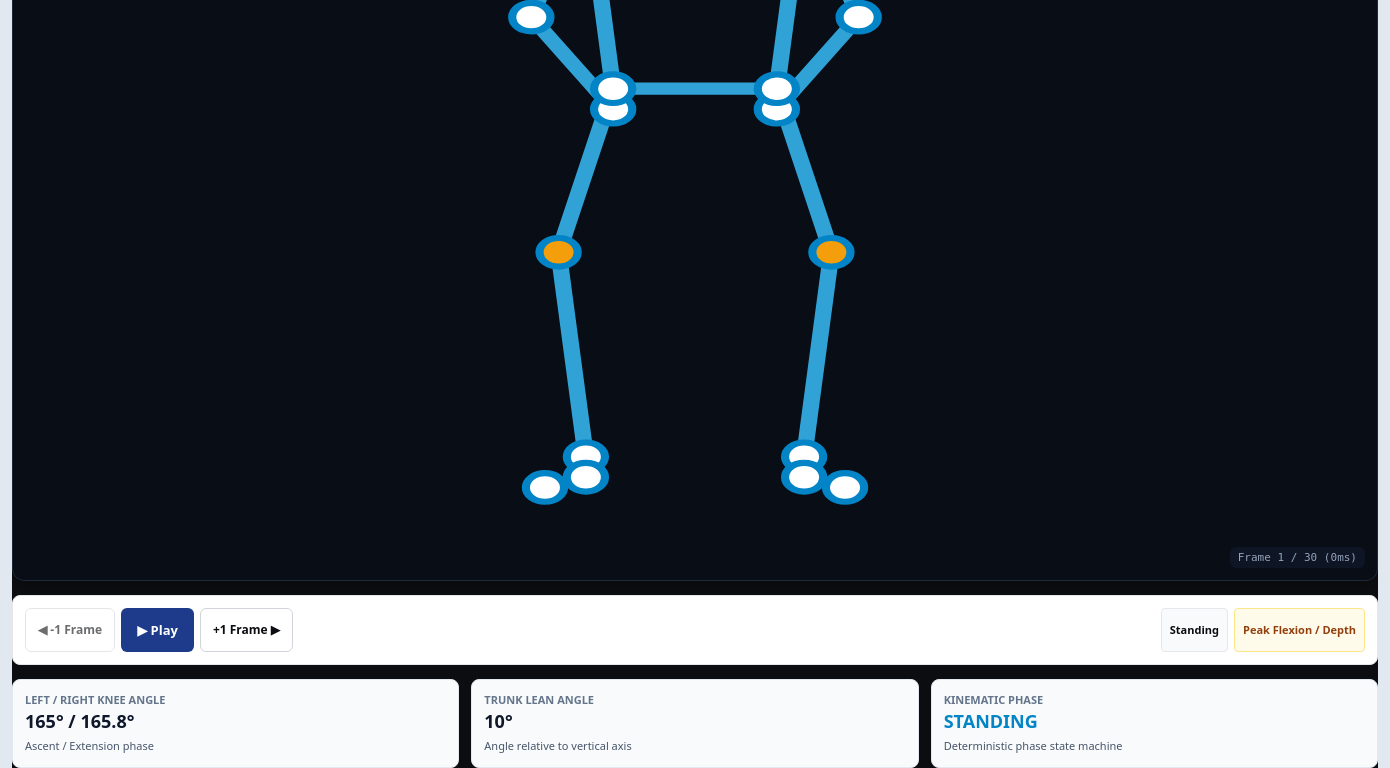
SkeletonPlayer (WP-2.7) › steps forward and backward through kinematic frames
(page scrolled)
Expected: the text "Frame 1 / 30 (0ms)" is shown, [1230,546,1365,568]
// Step forward 1 frame
Click the button with aria-label "Next frame": (246, 630) [200,608,293,652]
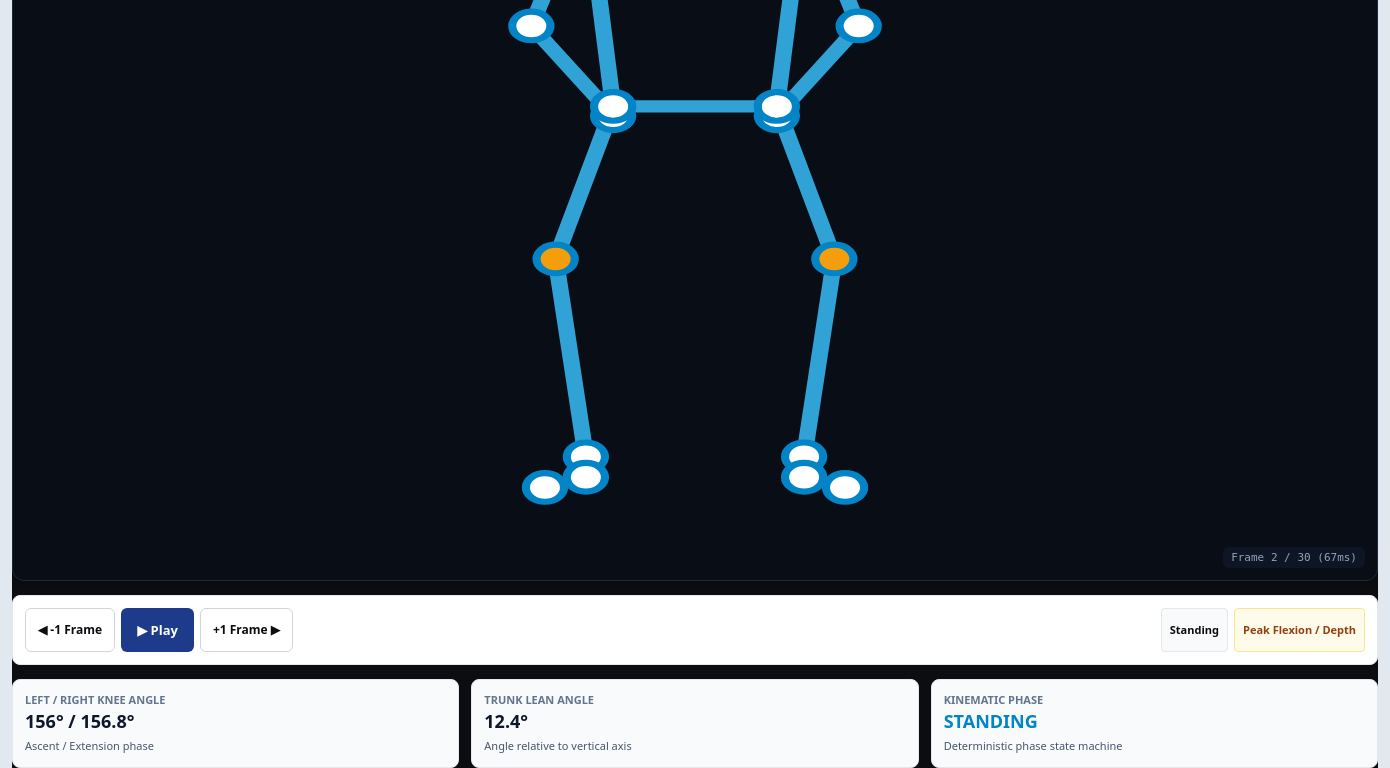
Expected: the text "Frame 2 / 30 (67ms)" is shown, [1223,546,1365,568]
// Step backward 1 frame
Click the button with aria-label "Previous frame": (70, 630) [25,608,115,652]
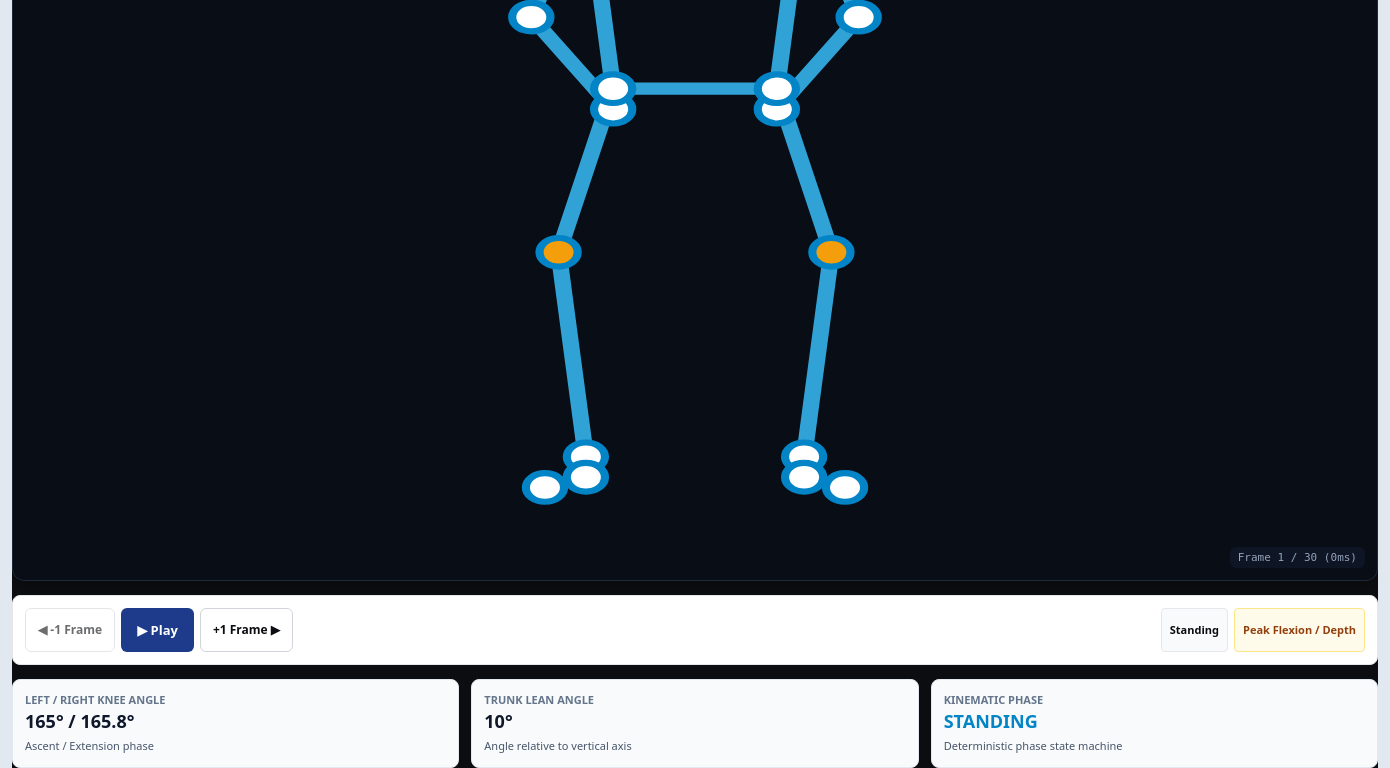
Expected: the text "Frame 1 / 30 (0ms)" is shown, [1230,546,1365,568]
